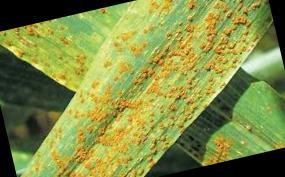Wheat: (123, 10, 257, 123), (51, 81, 174, 176)
